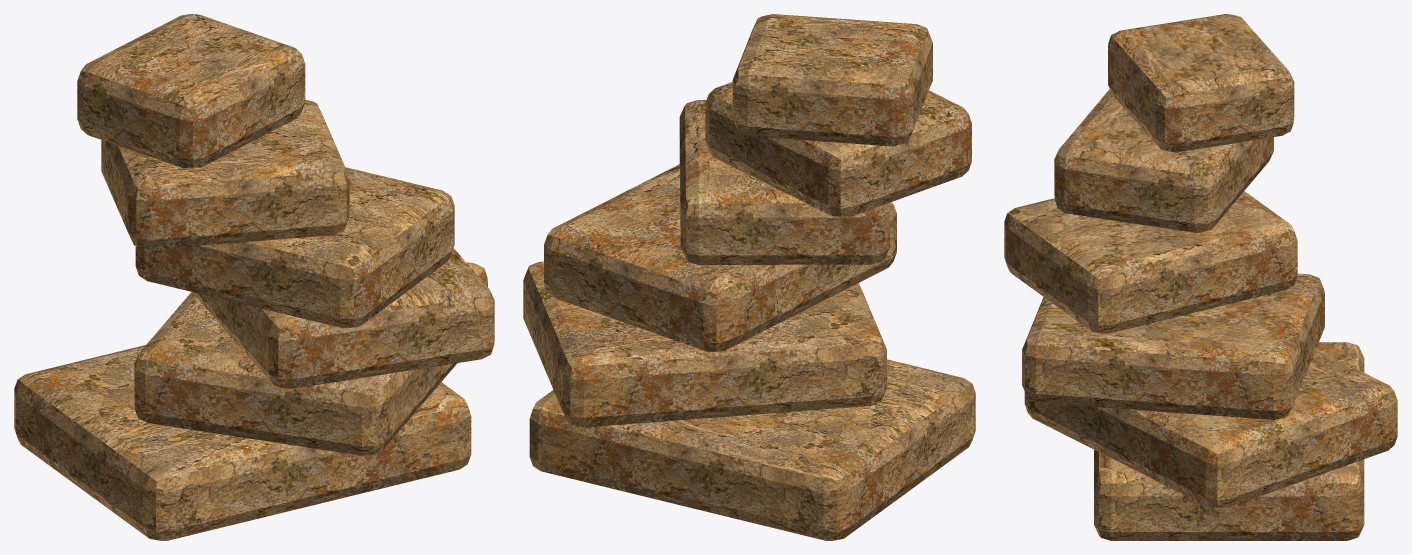
File: Autumn_Waystone.fbx
The picture shows the model from 3 angles, left to right: view 1: azimuth 30°, elevation 25°; view 2: azimuth 150°, elevation 25°; view 3: azimuth 270°, elevation 25°; orthographic projection. The views are drawn at different scales.
Parts seen in each view (by area): view 1: Weathered_Cairn, Weathered_Cairn.003, Weathered_Cairn.005, Weathered_Cairn.001, Weathered_Cairn.004, Weathered_Cairn.002; view 2: Weathered_Cairn, Weathered_Cairn.001, Weathered_Cairn.002, Weathered_Cairn.005, Weathered_Cairn.003, Weathered_Cairn.004; view 3: Weathered_Cairn.002, Weathered_Cairn.003, Weathered_Cairn.001, Weathered_Cairn.005, Weathered_Cairn.004, Weathered_Cairn.
Boxes of the visible parts, box(x1,y1,x2,y2) form: Weathered_Cairn: box(14, 345, 471, 540); Weathered_Cairn.003: box(135, 167, 454, 328); Weathered_Cairn.005: box(77, 14, 305, 168); Weathered_Cairn.001: box(134, 262, 487, 455); Weathered_Cairn.004: box(101, 100, 349, 249); Weathered_Cairn.002: box(192, 248, 494, 388); Weathered_Cairn: box(529, 359, 975, 540); Weathered_Cairn.001: box(523, 261, 886, 427); Weathered_Cairn.002: box(544, 164, 896, 352); Weathered_Cairn.005: box(732, 14, 932, 146); Weathered_Cairn.003: box(679, 100, 889, 264); Weathered_Cairn.004: box(705, 82, 971, 217); Weathered_Cairn.002: box(1022, 273, 1324, 419); Weathered_Cairn.003: box(1004, 191, 1297, 333); Weathered_Cairn.001: box(1024, 349, 1397, 508); Weathered_Cairn.005: box(1108, 14, 1294, 152); Weathered_Cairn.004: box(1054, 89, 1273, 232); Weathered_Cairn: box(1094, 342, 1364, 540).
Bounding box in the file's own units: 174 × 178 × 160.
